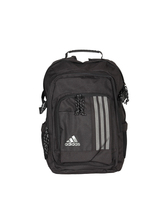bag: (25, 41, 140, 176)
